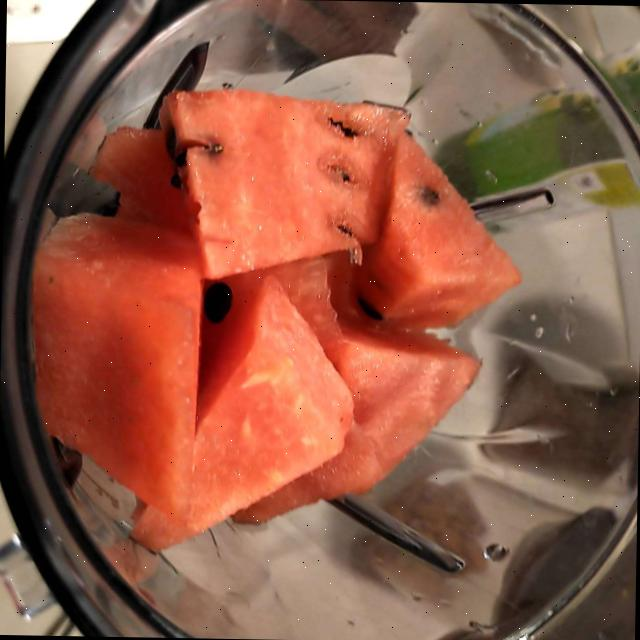watermelon-fresh: (53, 99, 500, 539)
